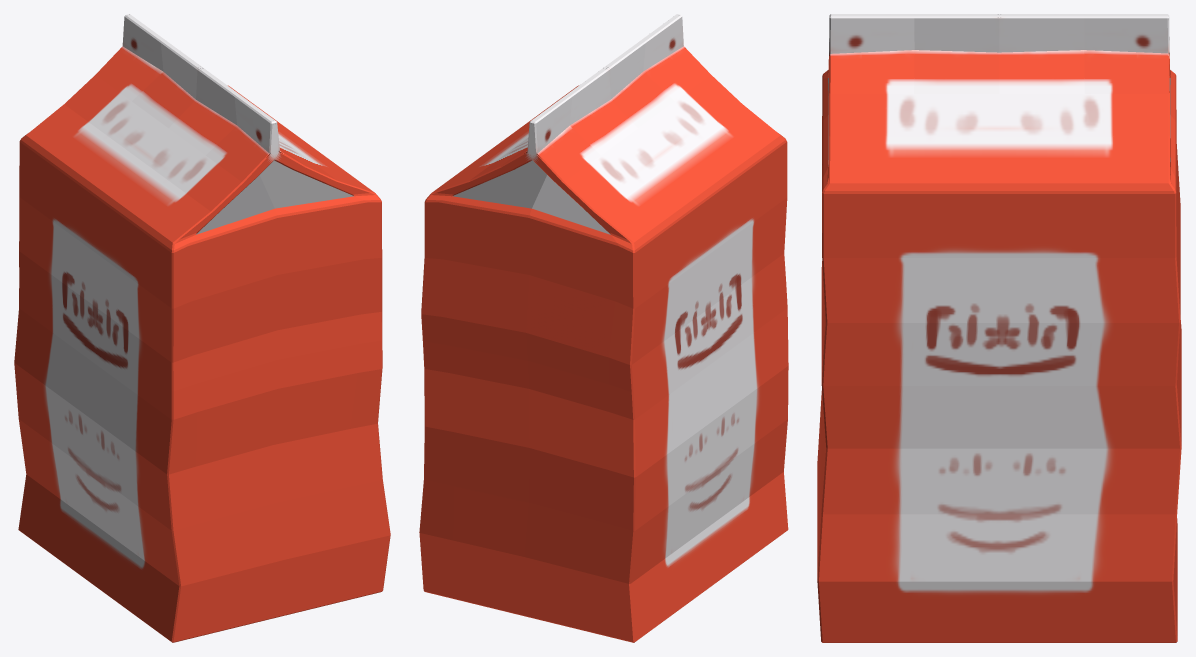
Rendered from cream.fbx.
The picture shows the model from 3 angles, left to right: view 1: azimuth 30°, elevation 25°; view 2: azimuth 150°, elevation 25°; view 3: azimuth 270°, elevation 25°; orthographic projection. The views are drawn at different scales.
Parts seen in each view (by area): view 1: Cube; view 2: Cube; view 3: Cube.
Part boxes in pixels (box(x1,y1,x2,y2)): Cube: box(14, 14, 390, 642); Cube: box(419, 14, 788, 642); Cube: box(817, 14, 1181, 642).
Bounding box in the file's own units: 208 × 446 × 259.
Materials: 1 (1 with a texture image).
